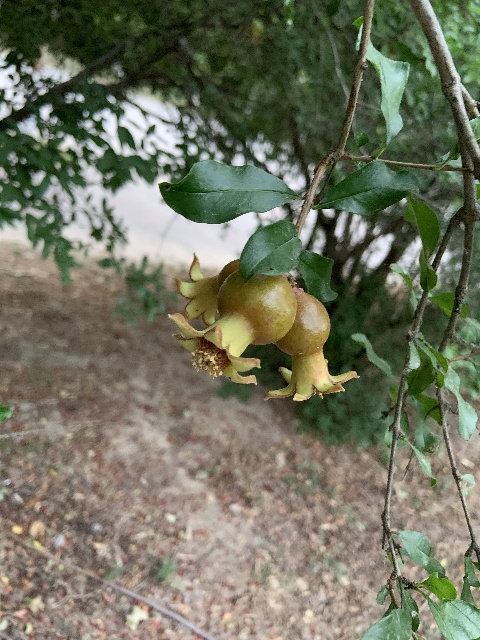early-fruit: (168, 267, 296, 385), (264, 287, 359, 401), (169, 252, 242, 329)
